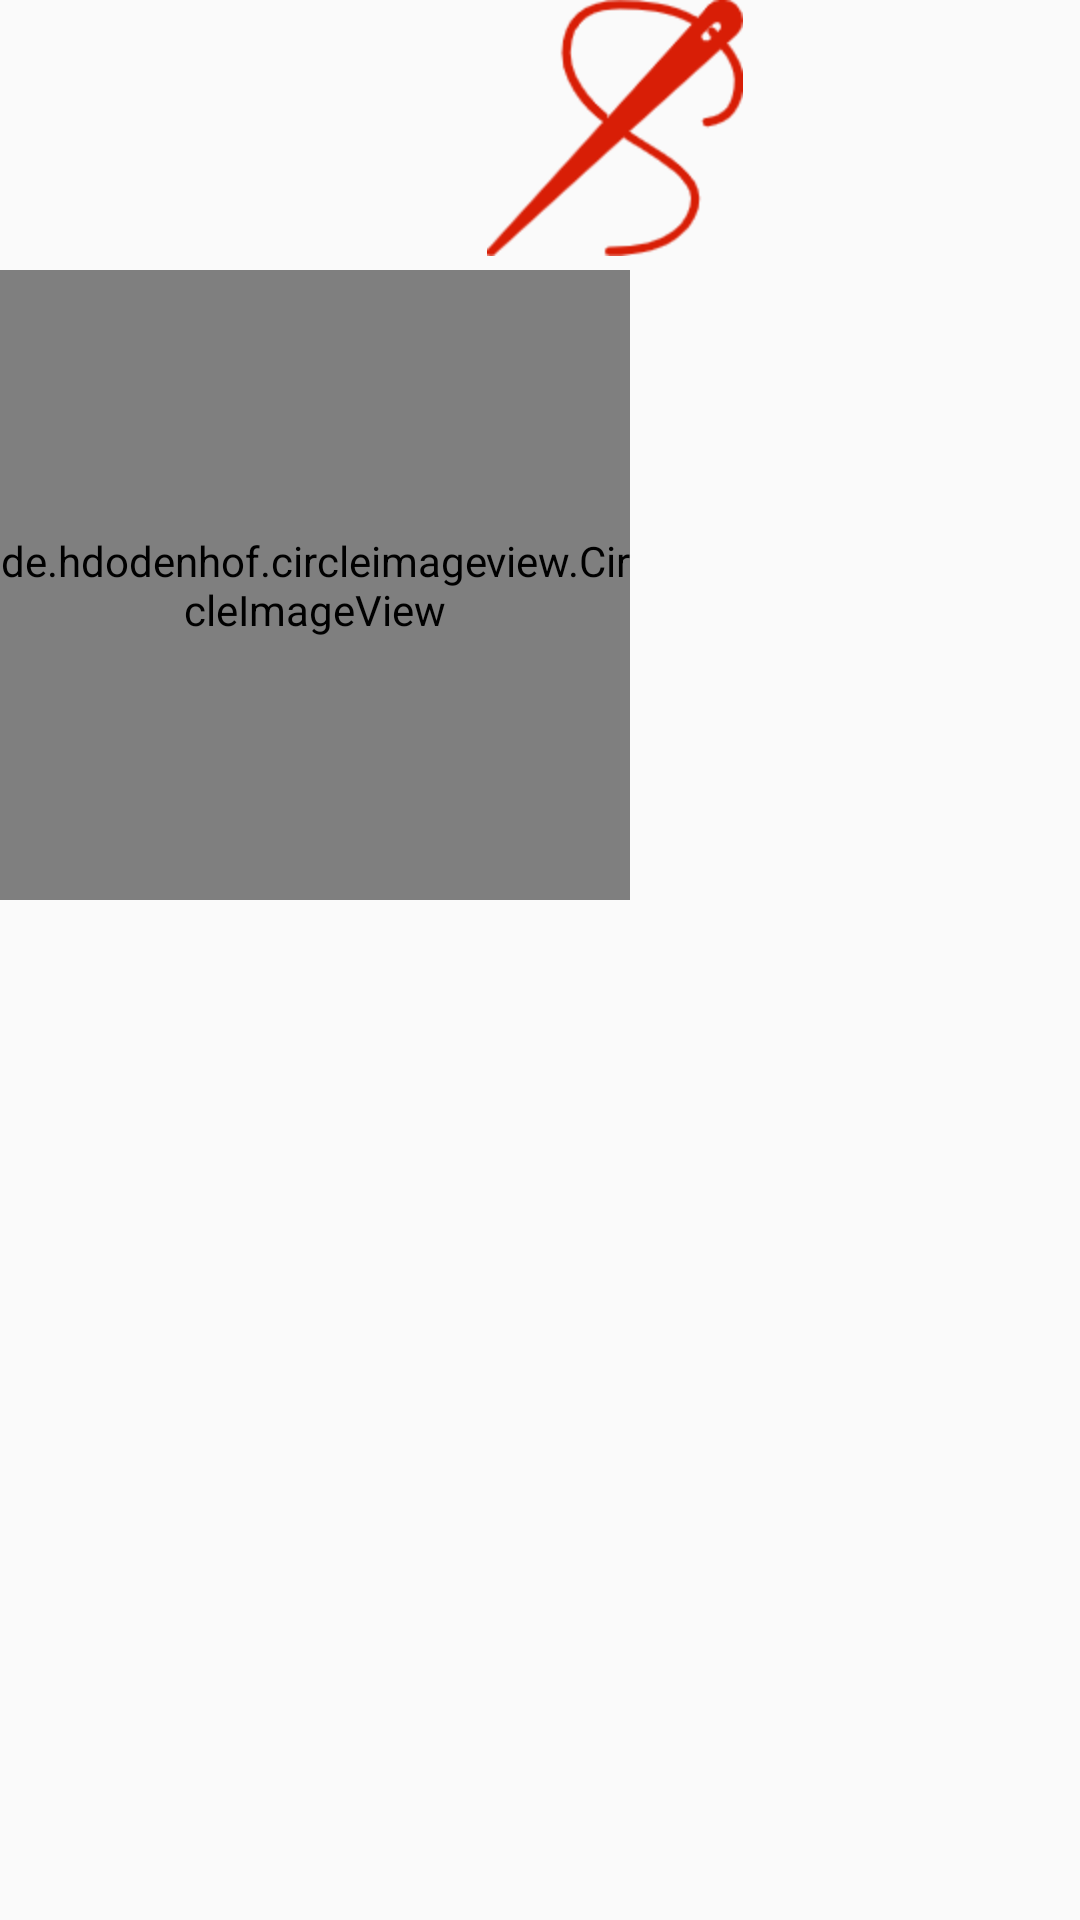

Icon click points for this 1080px×1920px phone screenshot, format (x=x, y=y):
needle: (x=615, y=128)
